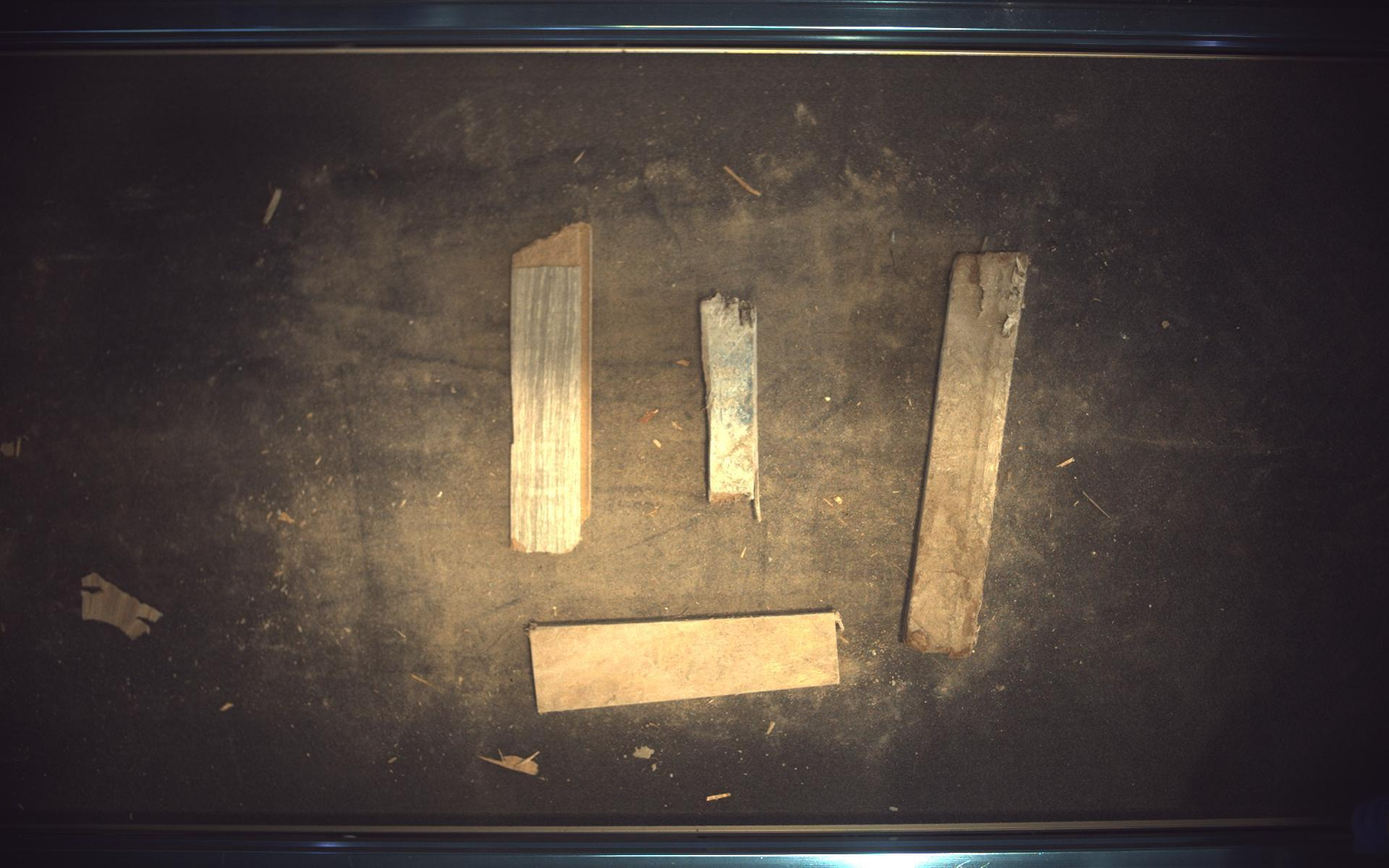wood: (906, 252, 1031, 657), (530, 613, 841, 715), (511, 222, 592, 554), (701, 292, 763, 521)
